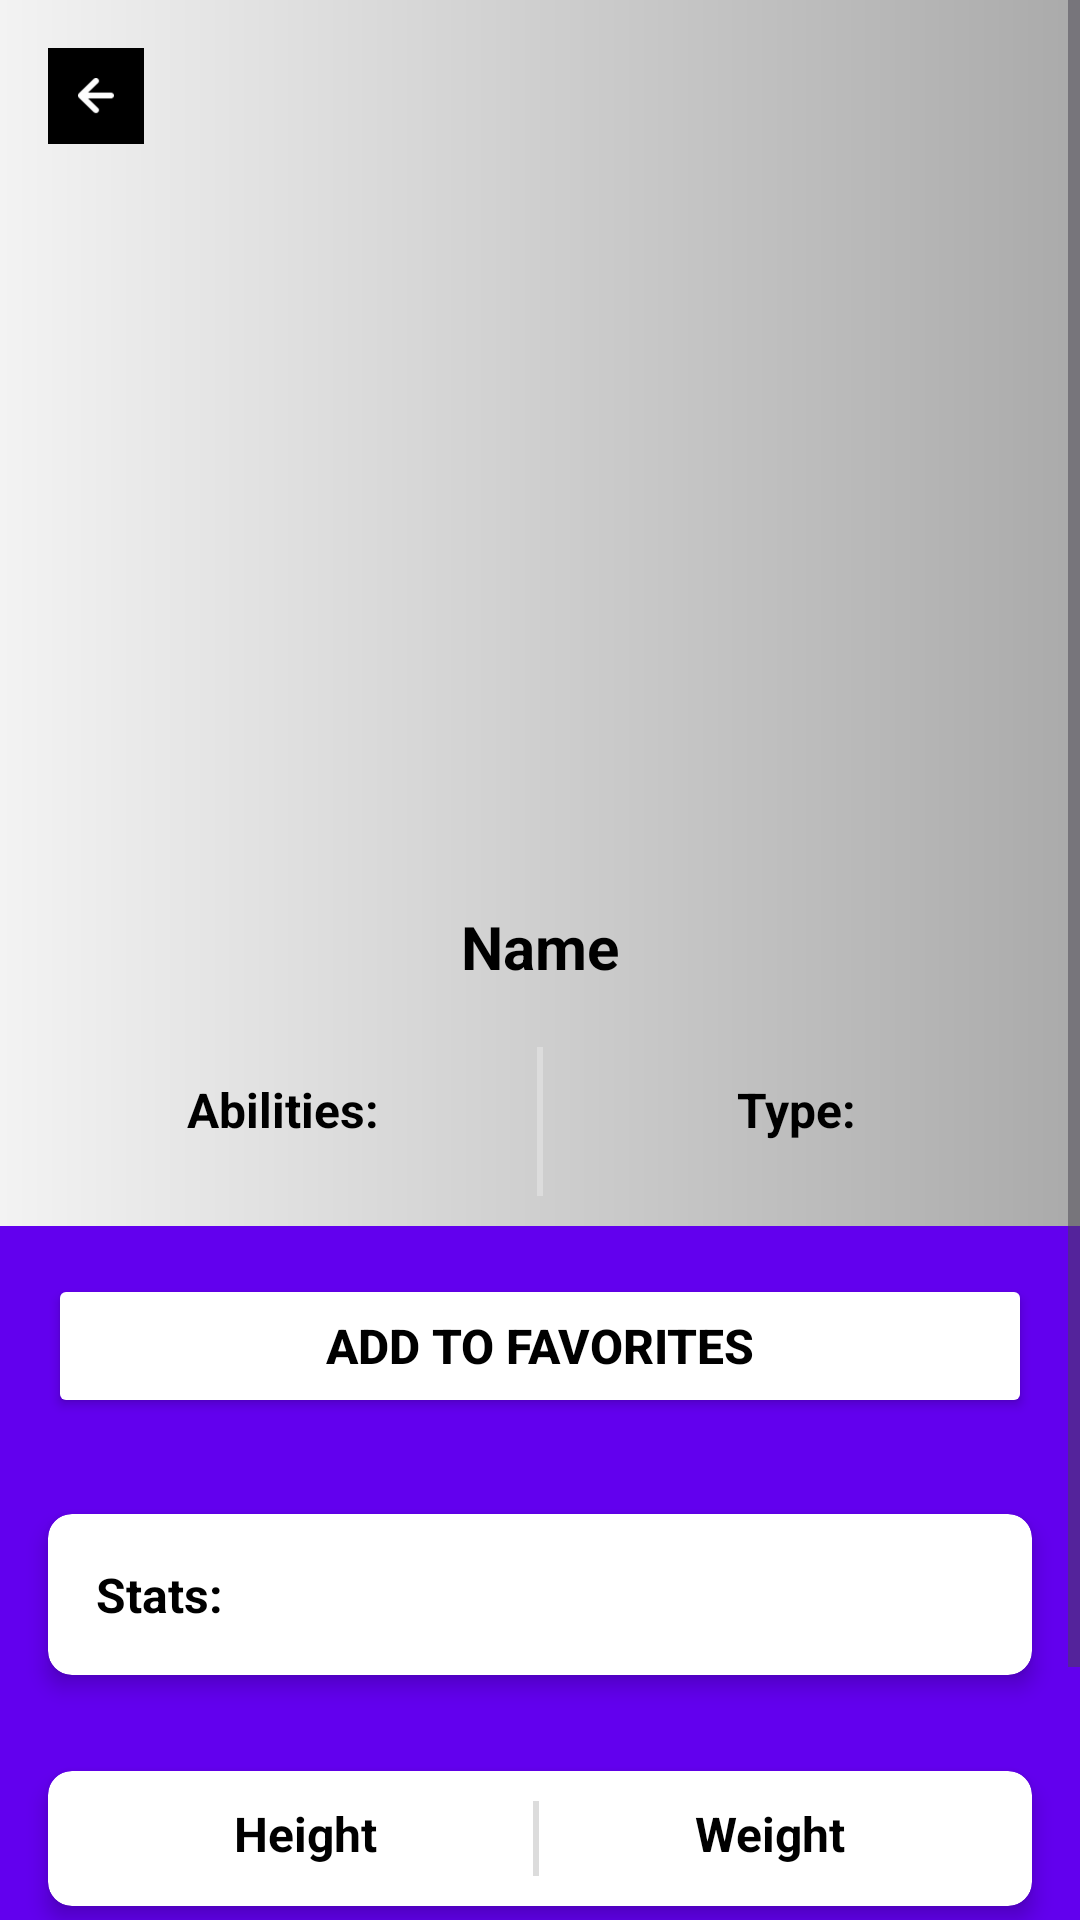

Icons on this 1080x1920 Android screen, each with the point to tap as (x=x, y=y):
arrow left: (x=96, y=96)
